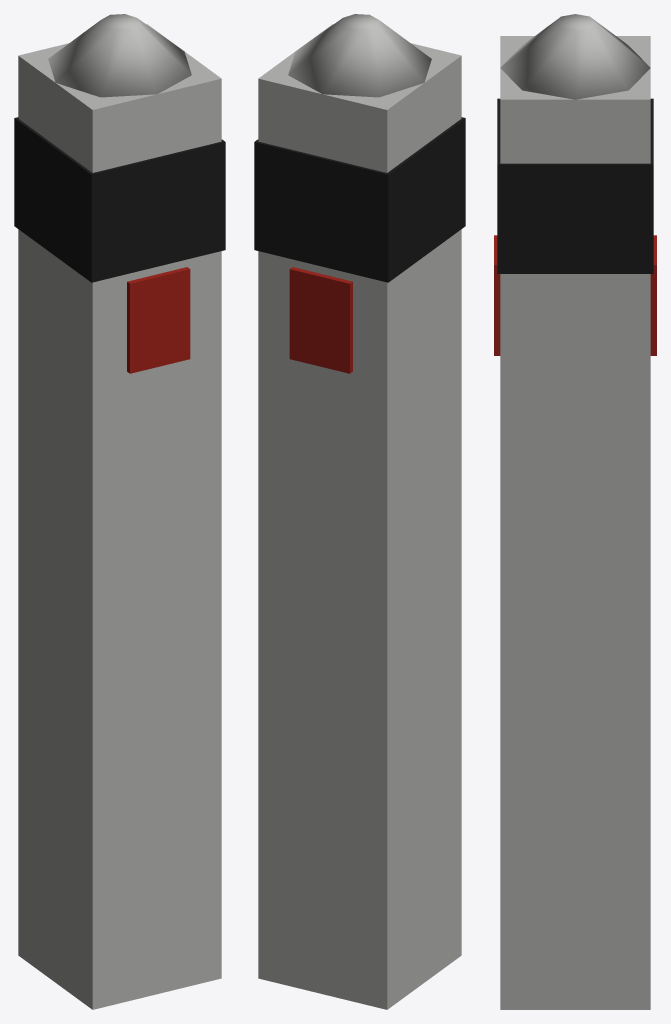
File: SM_Prop_bollard_0.glb
The picture shows the model from 3 angles, left to right: view 1: azimuth 30°, elevation 25°; view 2: azimuth 150°, elevation 25°; view 3: azimuth 270°, elevation 25°; orthographic projection.
Parts seen in each view (by area): view 1: SM_Prop_bollard_0; view 2: SM_Prop_bollard_0; view 3: SM_Prop_bollard_0.
Boxes of the visible parts, x1,y1,x2,y2 form: SM_Prop_bollard_0: [14, 14, 225, 1009]; SM_Prop_bollard_0: [254, 14, 465, 1009]; SM_Prop_bollard_0: [494, 14, 656, 1009].
Size of the model in its own units: 0.156 by 1.05 by 0.162.
